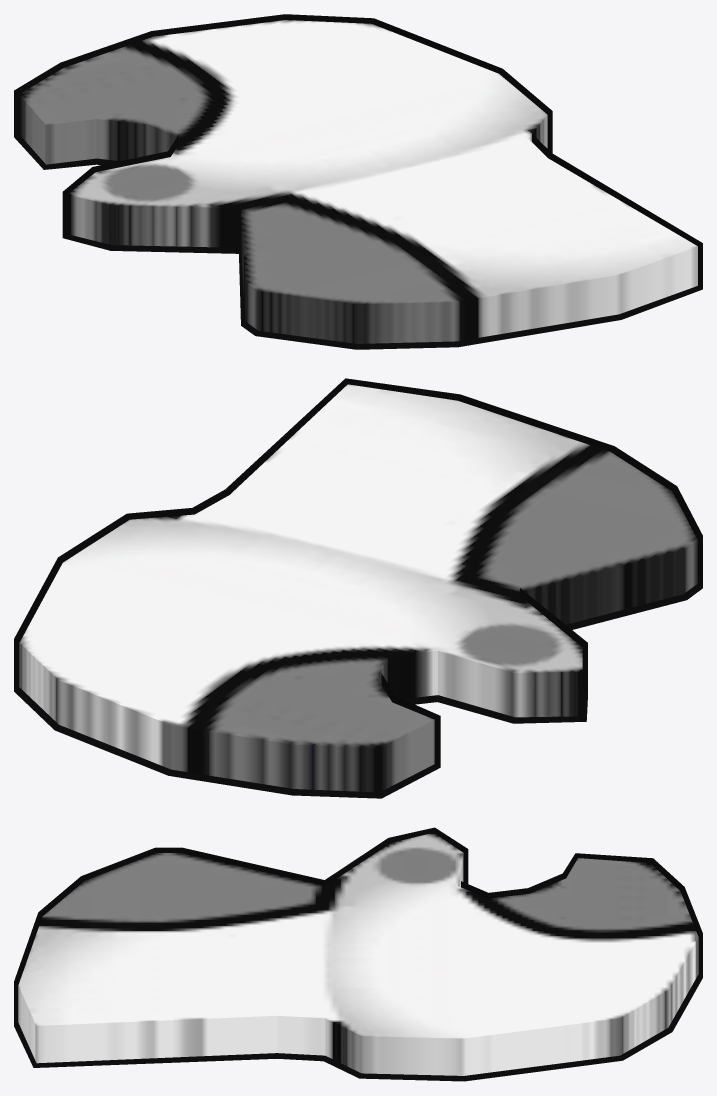
Rendered from Item_Apparel_Cape_Things_Pawn_Humanlike_Apparel_Cape_Cape.glb.
The picture shows the model from 3 angles, top to bottom: view 1: azimuth 30°, elevation 25°; view 2: azimuth 150°, elevation 25°; view 3: azimuth 270°, elevation 25°; orthographic projection. The views are drawn at different scales.
Visible parts, largest first — view 1: Body, Outline; view 2: Body, Outline; view 3: Body, Outline.
Boxes of the visible parts, left/top/right/bottom form: Body: left=19, top=20, right=697, bottom=343; Outline: left=14, top=14, right=702, bottom=349; Body: left=19, top=384, right=697, bottom=792; Outline: left=14, top=378, right=702, bottom=798; Body: left=18, top=832, right=698, bottom=1075; Outline: left=14, top=827, right=702, bottom=1081.
Size of the model in its own units: 0.6448 by 0.0674 by 0.8944.
Materials: 2 (1 with a texture image).
